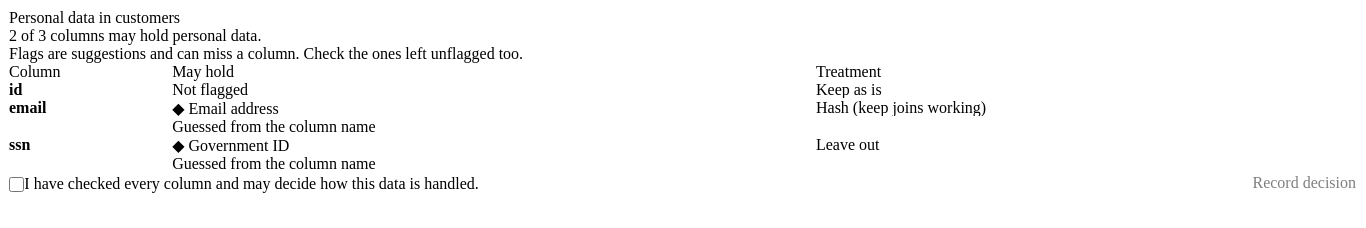
personal data › proposes the cautious treatment and needs a person to confirm
This screenshot has width=1366, height=228.
Later steps or results of the test are not shown.
Expected: the dropdown named "Treatment for ssn" shows "Leave out", 816,136 -> 1357,153
Expected: the dropdown named "Treatment for id" shows "Keep as is", 816,81 -> 1357,98
Note: Loosening a flagged column is allowed, and is called out.
Select "Keep as is" in the dropdown named "Treatment for email". click: (1086, 108)
box: 816,99 -> 1357,116
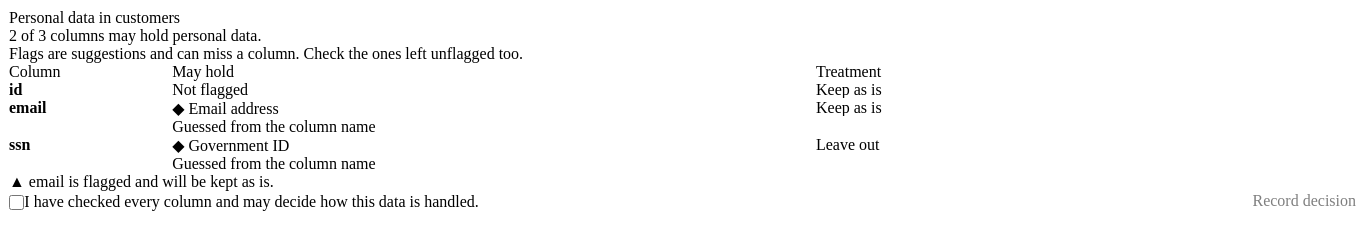
Result: the text "▲ email is flagged and will be kept as is." is shown at 9,173 -> 274,190
